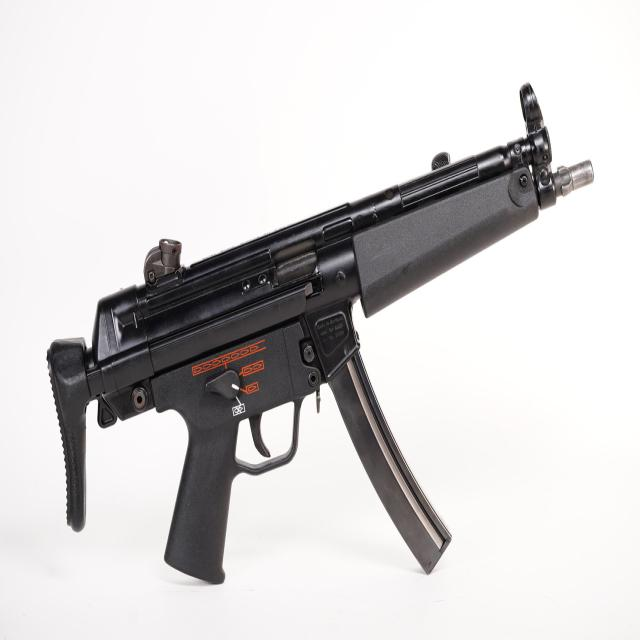SMG: (46, 85, 596, 587)
